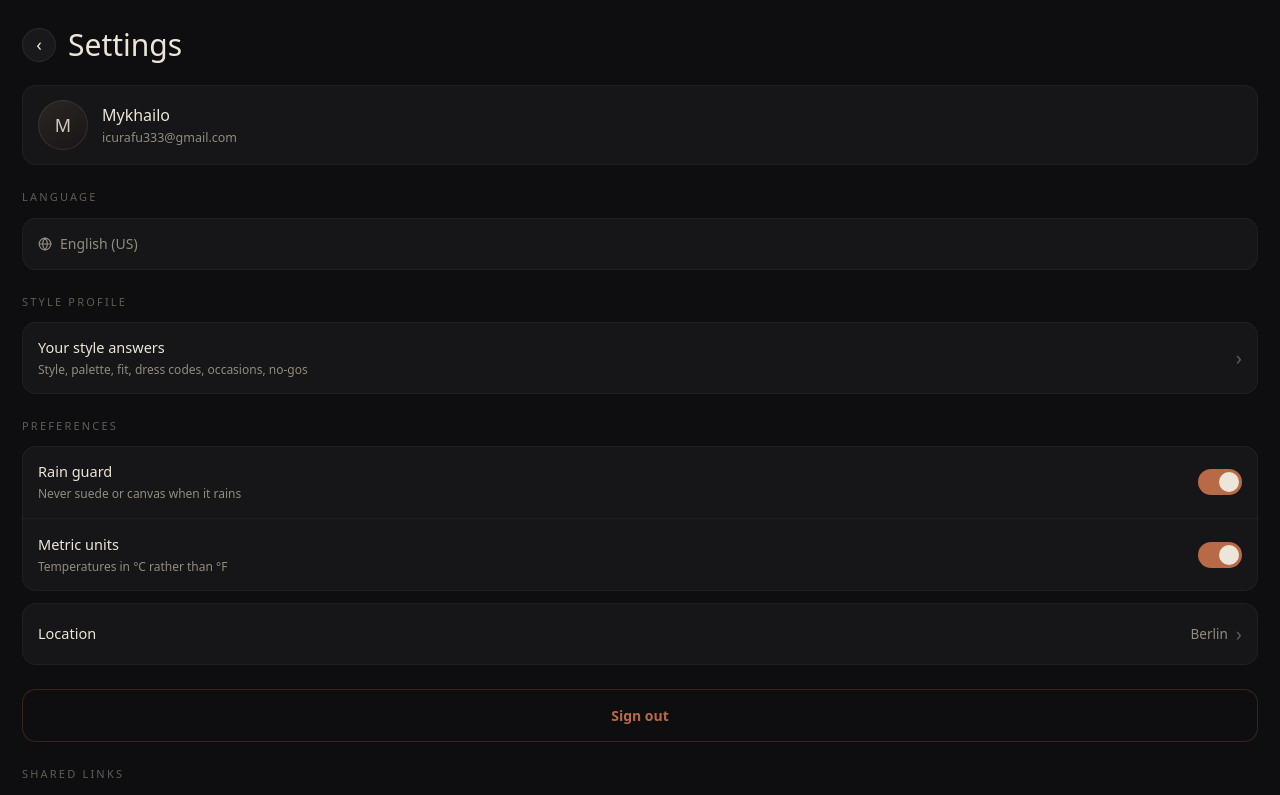
the location row is a control, and says whether it is open
Expected: the text "Berlin" is shown, [1190,624,1228,644]
Click the button "Location Berlin ›": (67, 633) [22,603,1258,665]
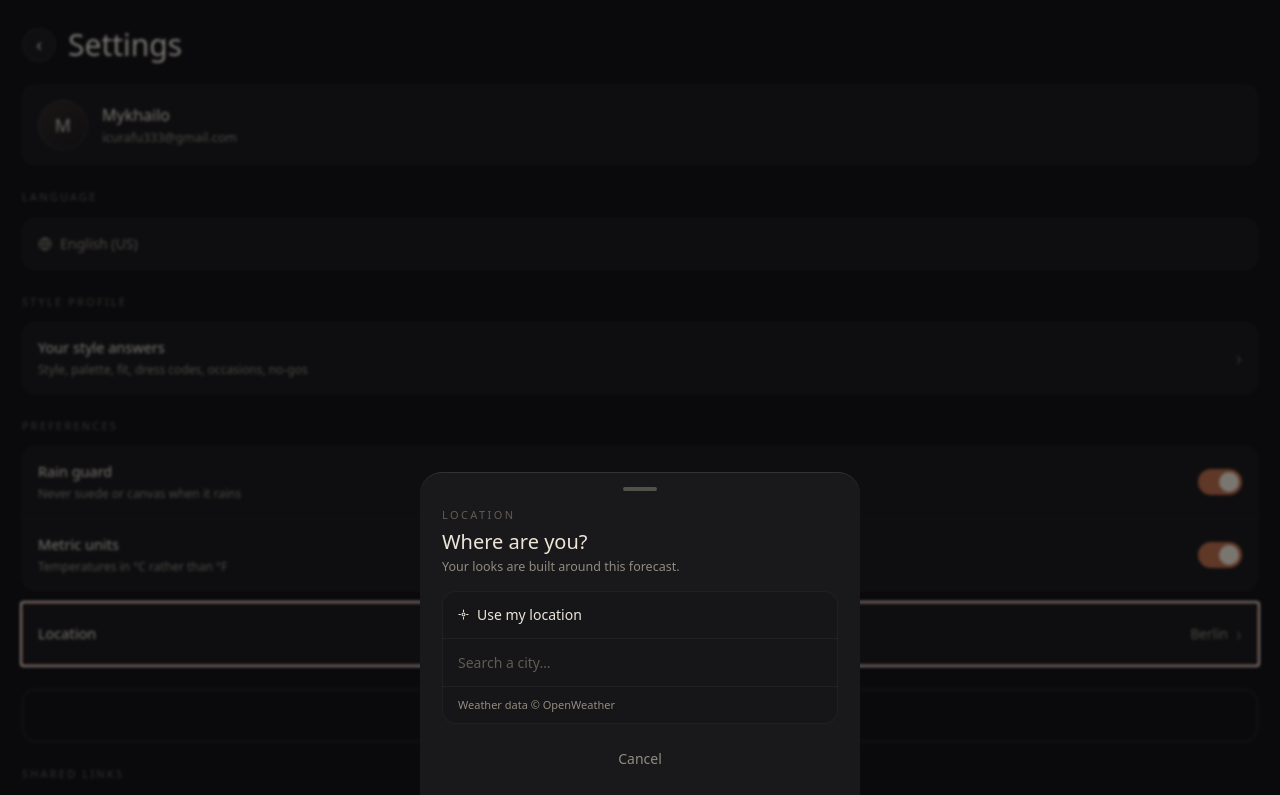
Now the button "Location Berlin ›" is expanded, box [22,603,1258,665]
